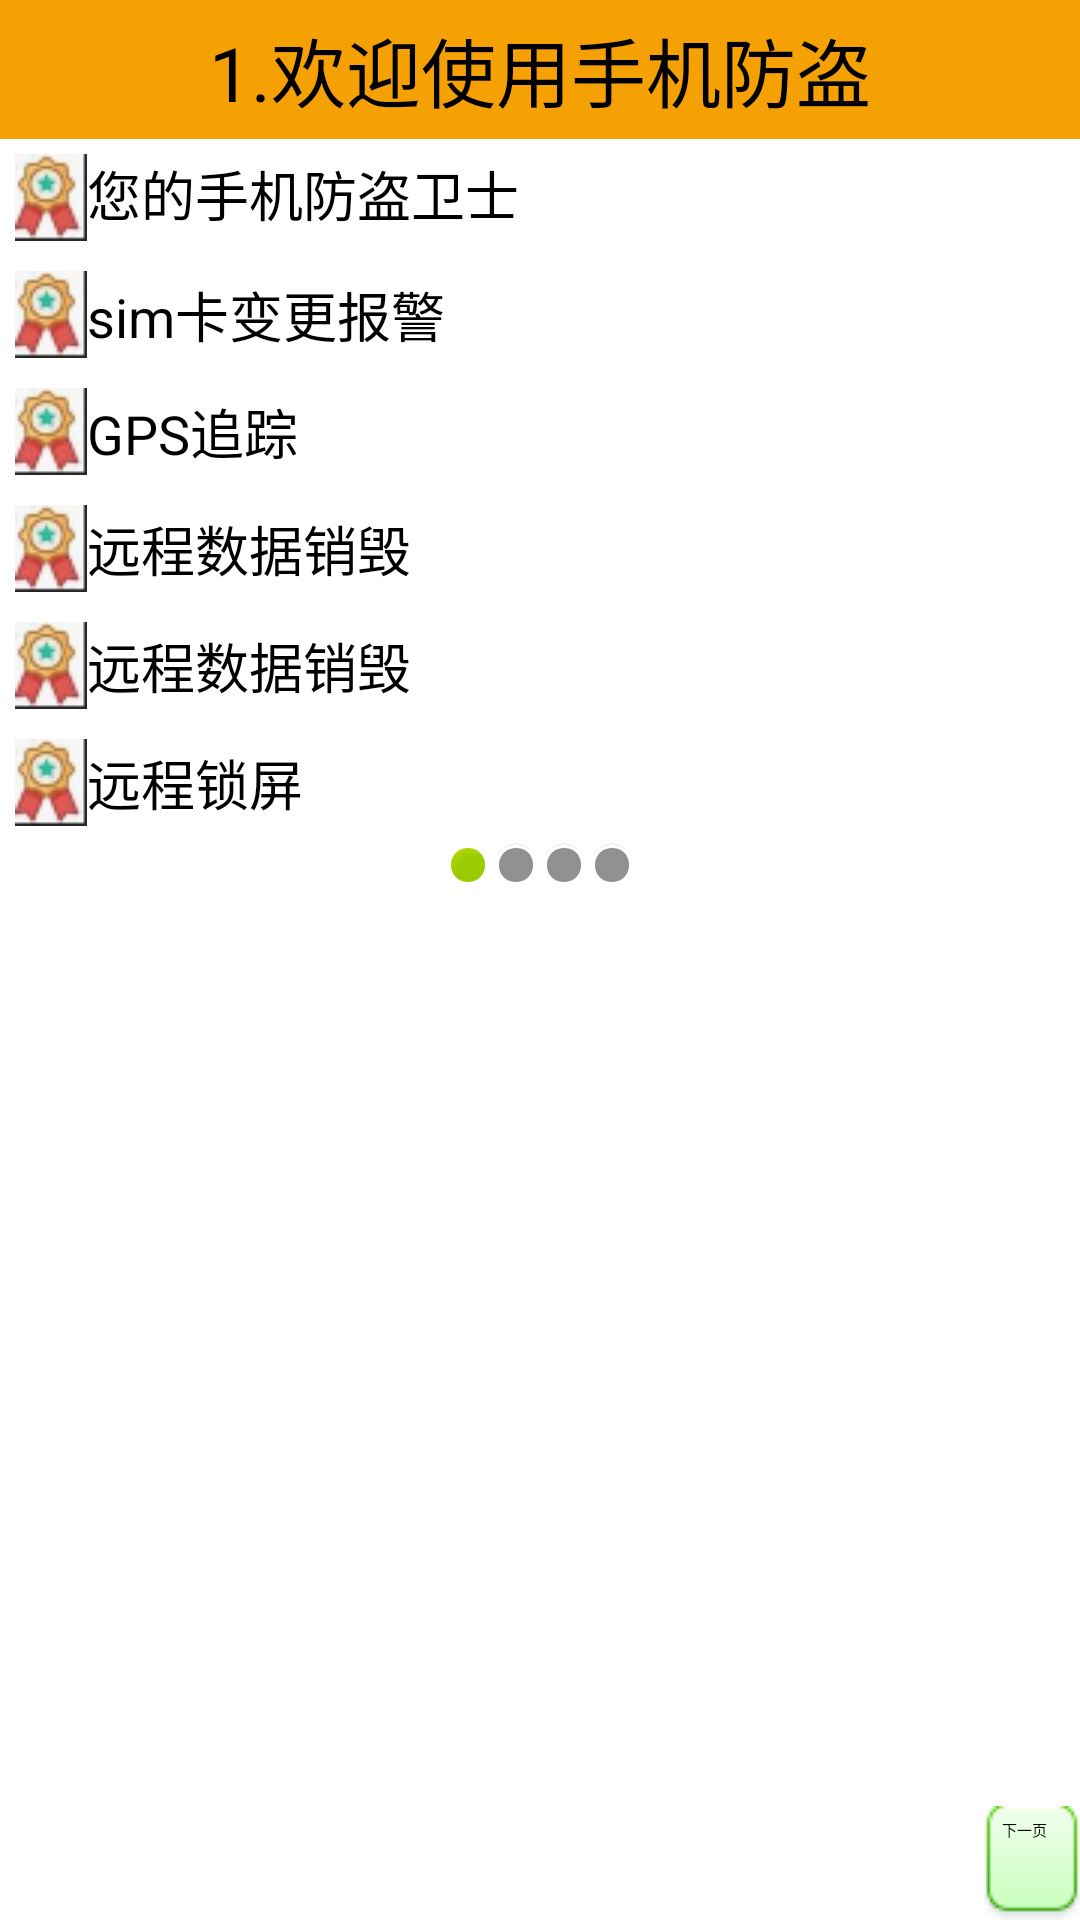

Locate icon controls on the screen. Image size 1080 x 1920, boxes as [left=x1, top=y1, right=x2, bottom=y2].
presence invisible: [left=499, top=844, right=533, bottom=882], [left=547, top=844, right=581, bottom=882], [left=595, top=844, right=629, bottom=882]
presence online: [left=451, top=848, right=485, bottom=882]
